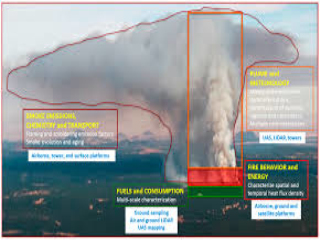smoke: (183, 12, 238, 168)
